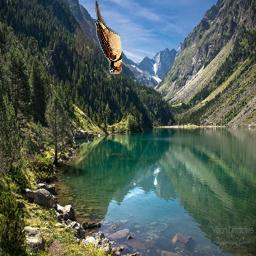Swallow: (96, 0, 123, 74)
